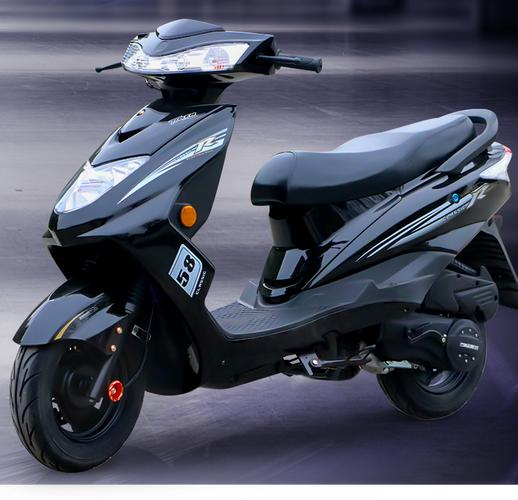摩托车: (6, 15, 518, 482)
